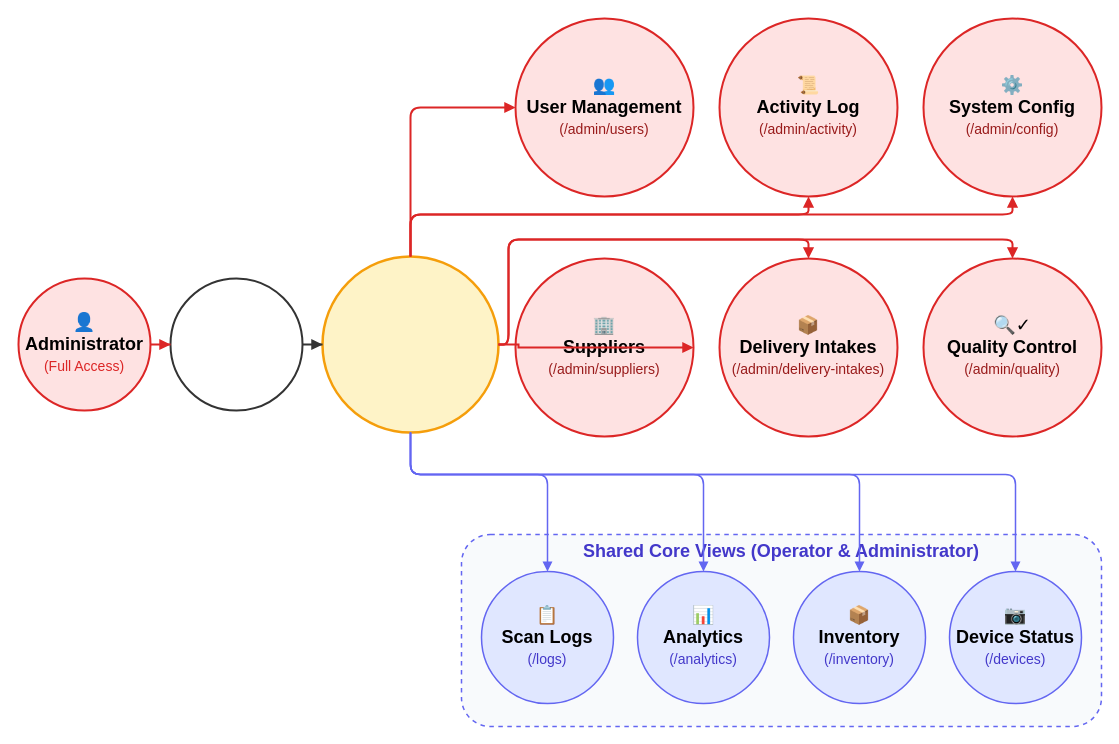
This 1119x744 diagram has some shape labels left out. The centre of each missing label's shape, as x and y in pixels:
"🏠 Admin Dashboard" belongs at (x=410, y=344).
"🔐 Login Username & Password" belongs at (x=236, y=344).
